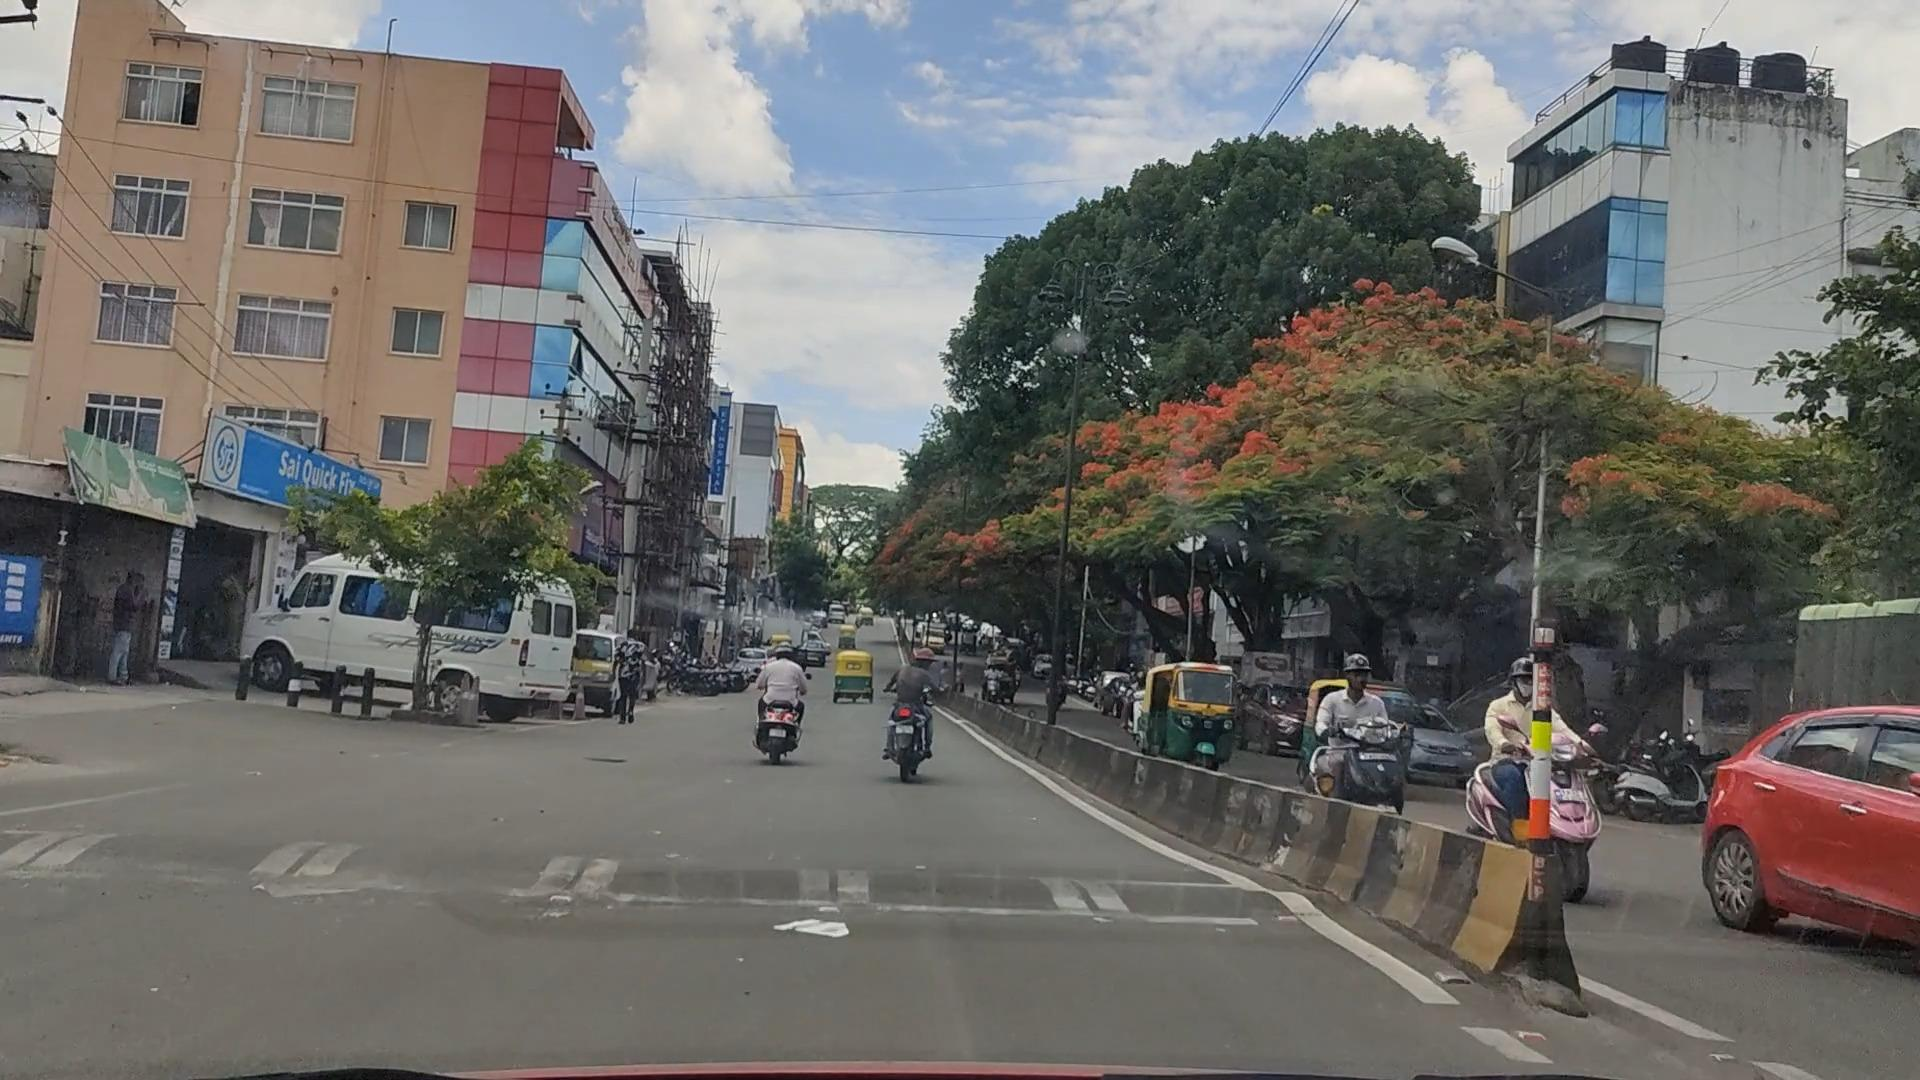SpeedBump: (16, 860, 1348, 944)
